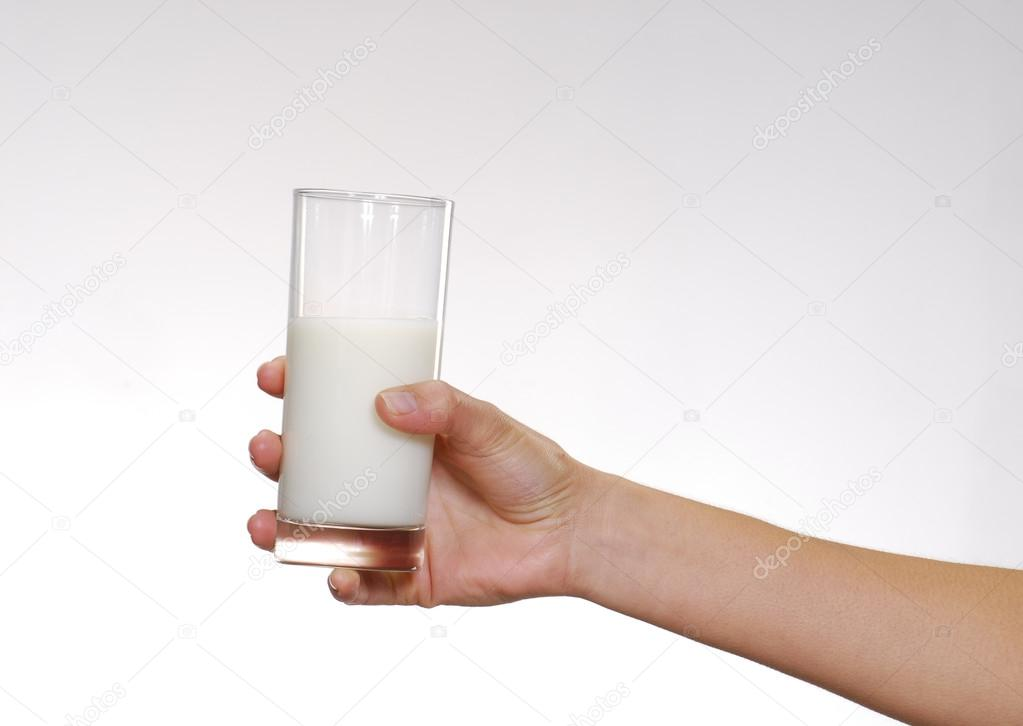glass of milk: (293, 191, 414, 573)
